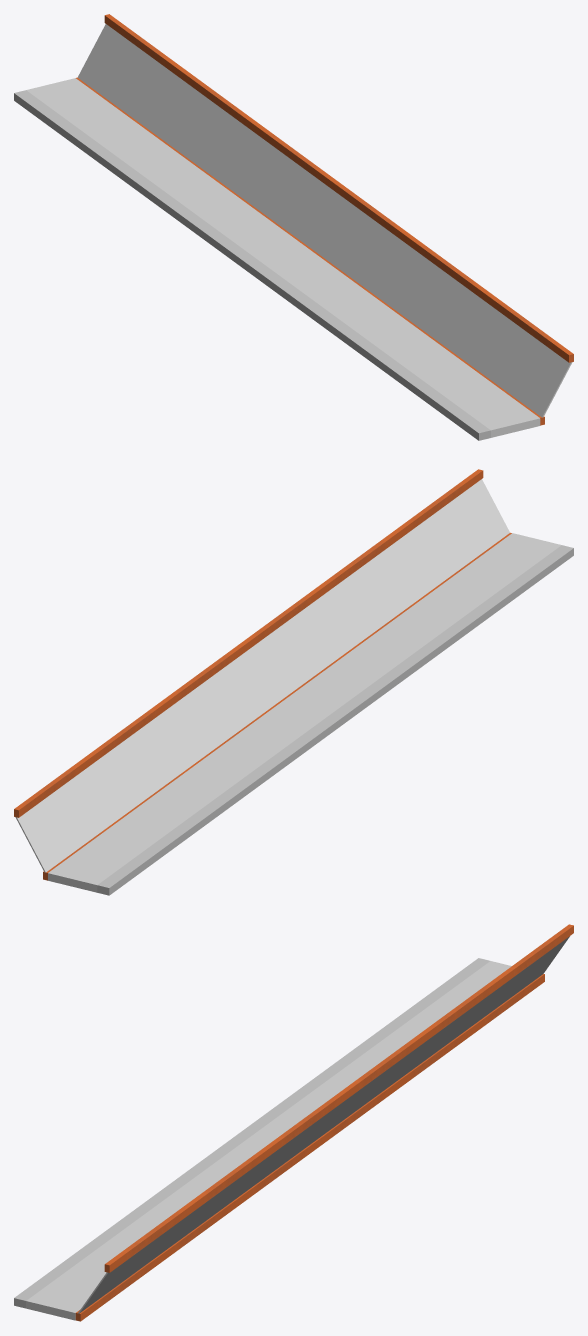
The model's file is Fencing_2.fbx.
3 views of the same model, one above another, from view 1: azimuth 30°, elevation 25°; view 2: azimuth 150°, elevation 25°; view 3: azimuth 330°, elevation 25° (orthographic).
Parts seen in each view (by area): view 1: Cube.358, Cube.040, Cube.138, Cube.356, Cube.160; view 2: Cube.358, Cube.040, Cube.138, Cube.356, Cube.160; view 3: Cube.040, Cube.358, Cube.356, Cube.138, Cube.160.
Part boxes in pixels (x1,y1,x2,y2): Cube.358: [77, 24, 572, 417]; Cube.040: [26, 78, 540, 437]; Cube.138: [14, 90, 490, 440]; Cube.356: [104, 14, 573, 362]; Cube.160: [76, 77, 544, 425]; Cube.358: [15, 479, 509, 872]; Cube.040: [48, 533, 561, 892]; Cube.138: [97, 545, 573, 895]; Cube.356: [14, 469, 483, 817]; Cube.160: [43, 532, 511, 880]; Cube.040: [26, 961, 511, 1320]; Cube.358: [78, 936, 569, 1313]; Cube.356: [104, 924, 573, 1272]; Cube.138: [14, 958, 489, 1308]; Cube.160: [75, 974, 544, 1321].
Size of the model in its own units: 197 by 125 by 1663.
